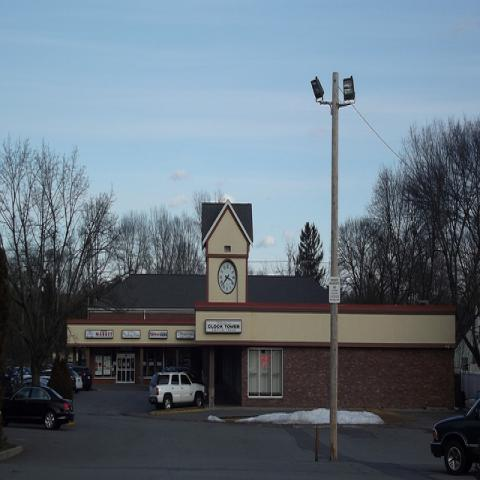car: (429, 396, 478, 474), (0, 386, 75, 431), (149, 372, 205, 409), (10, 367, 33, 388), (73, 367, 92, 388), (68, 366, 82, 392), (40, 364, 54, 386)
truck: (149, 372, 206, 410)
